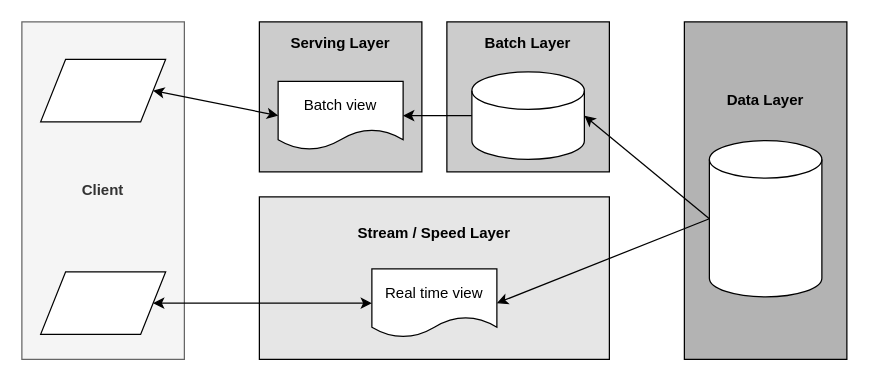
Image size: 869x381. Some labels were removed from this diagram. The shapes that lost their labels are listed below. From the top down, each one's centre as x and y in pixels, then its label:
At [102,90]: "Batch request".
At [527,115]: "Batch data".
At [765,218]: "Database".
At [102,302]: "Speed query".
